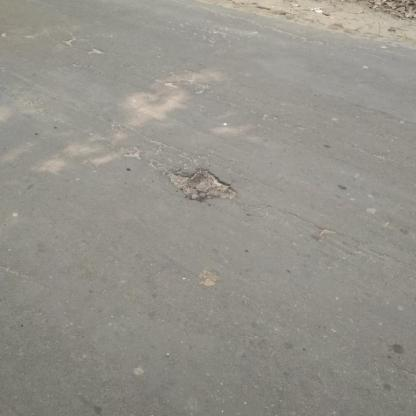pothole: (166, 167, 241, 202)
